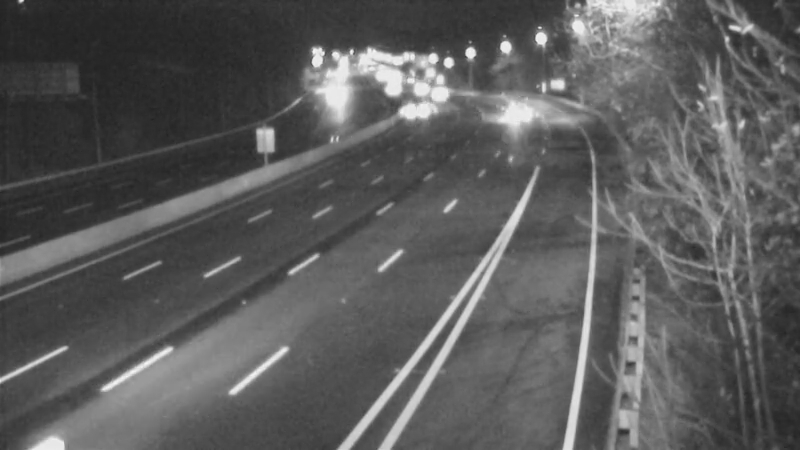vehicle: (394, 63, 444, 113), (363, 65, 413, 115), (414, 69, 464, 119), (500, 89, 550, 139), (391, 78, 441, 128)
